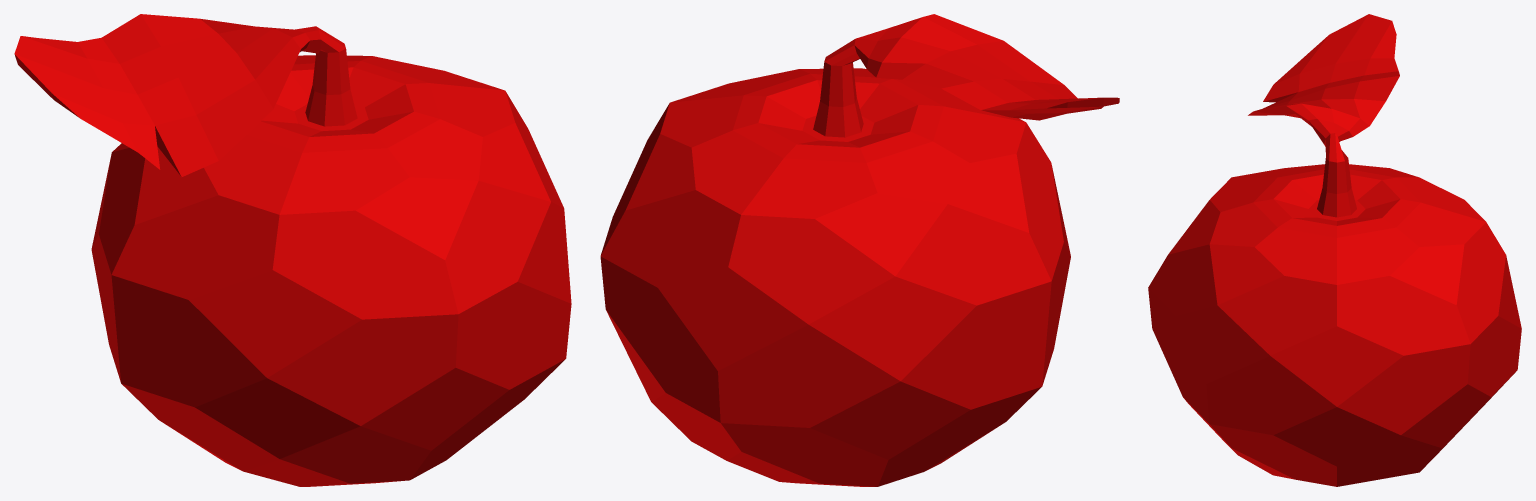
The model's file is apple.fbx.
3 renders of one model, left to right at view 1: azimuth 30°, elevation 25°; view 2: azimuth 150°, elevation 25°; view 3: azimuth 270°, elevation 25°, orthographic. The views are drawn at different scales.
Visible parts, largest first — view 1: apple; view 2: apple; view 3: apple.
Boxes of the visible parts, x1=… form: apple: x1=14, y1=14, x2=571, y2=486; apple: x1=600, y1=14, x2=1119, y2=486; apple: x1=1148, y1=14, x2=1521, y2=486.
Size of the model in its own units: 5.05 by 4.37 by 4.3.
